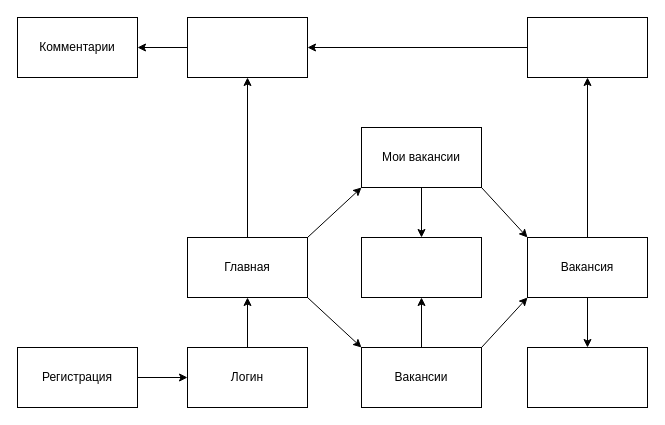
Some shapes in this 665 by 425 pixel diagram are drawn without their labels. Each missing label, with the box of its shape:
Аккаунт: (186, 16, 308, 78)
Откклики: (526, 16, 648, 78)
Проект: (526, 346, 648, 408)
Создать вакансию: (360, 236, 482, 298)
